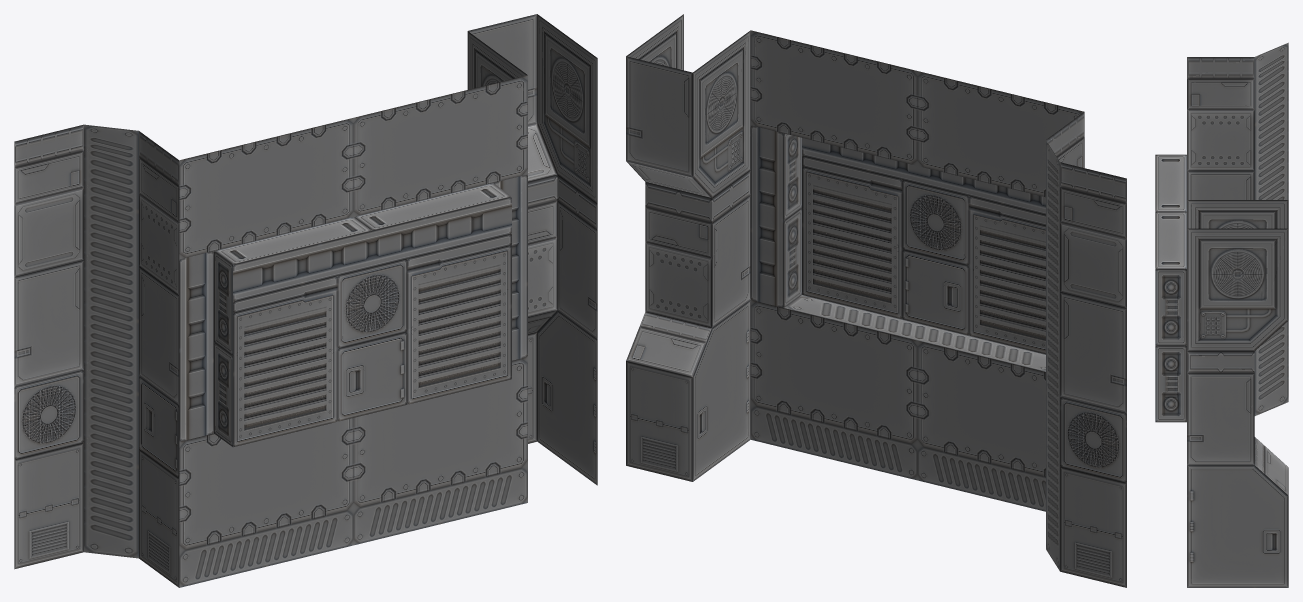
The model's file is wall01.fbx.
3 renders of one model, left to right at view 1: azimuth 30°, elevation 25°; view 2: azimuth 150°, elevation 25°; view 3: azimuth 270°, elevation 25°, orthographic. The views are drawn at different scales.
Parts seen in each view (by area): view 1: polySurface212; view 2: polySurface212; view 3: polySurface212.
Boxes of the visible parts, box(x1,y1,x2,y2) form: polySurface212: box(14, 14, 597, 587); polySurface212: box(626, 14, 1126, 587); polySurface212: box(1155, 42, 1288, 587).
Bounding box in the file's own units: 384 × 300 × 101.
